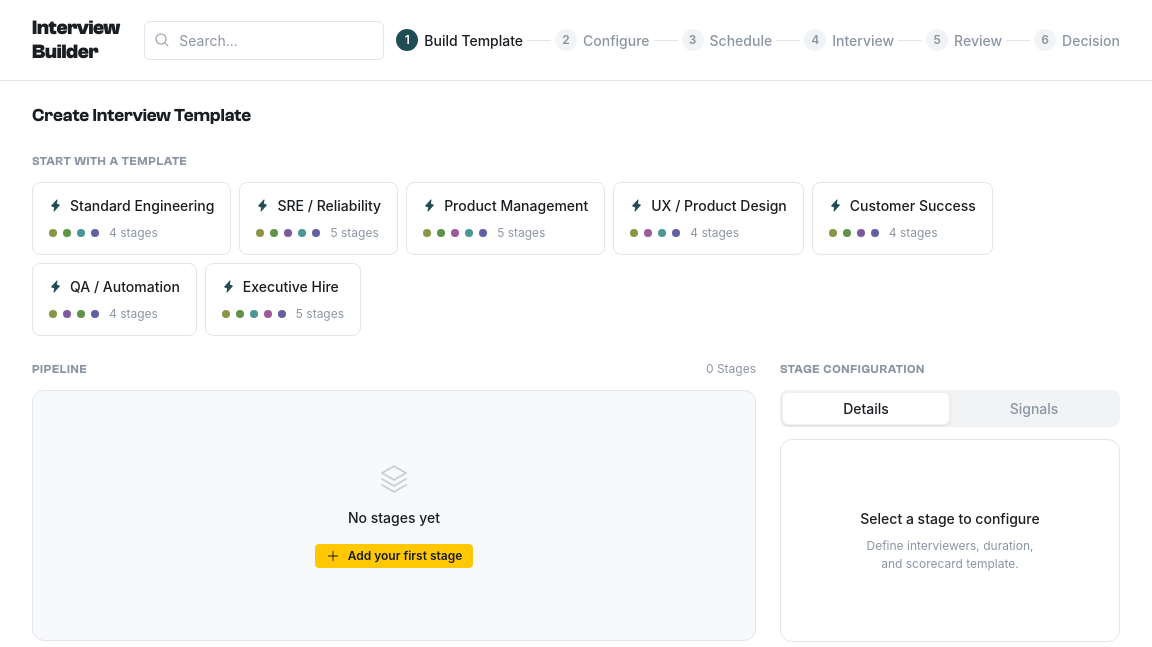
Test: Builder page › shows ConfigDrawer when a stage is clicked
The width and height of the screenshot is (1152, 647).
Click the text "Standard Engineering". click: click(142, 205)
box: [70,194,214,216]
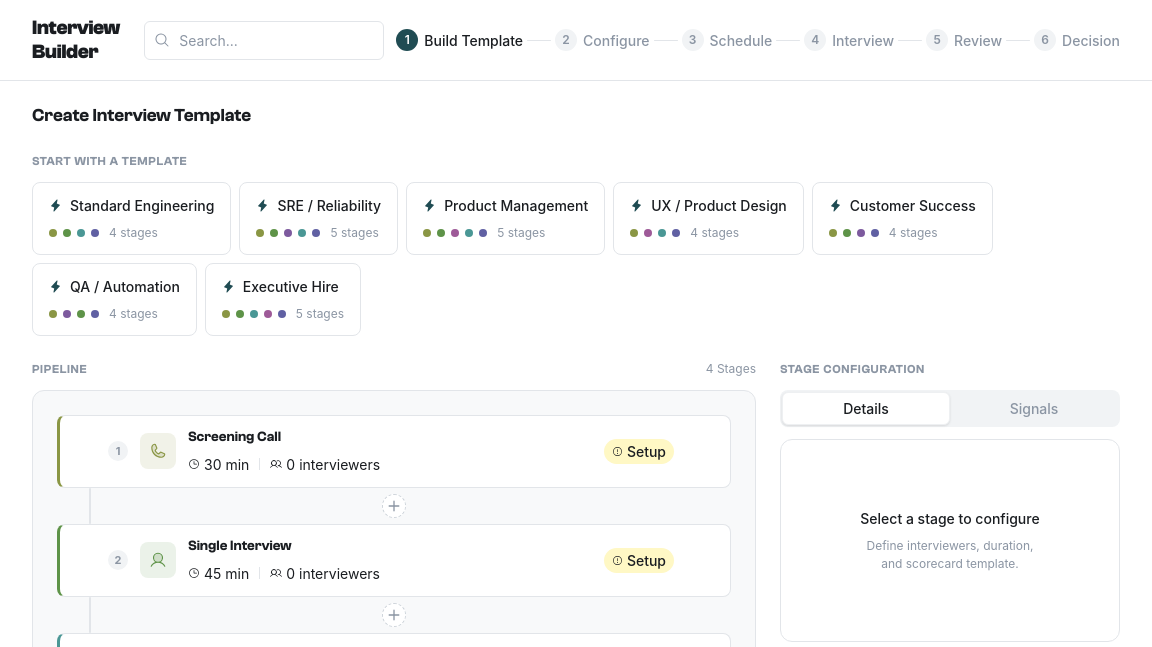
// Click the Screening Call stage card
Click the button with aria-label "Stage 1: Screening Call". click: click(235, 436)
box: [57,414,731,488]
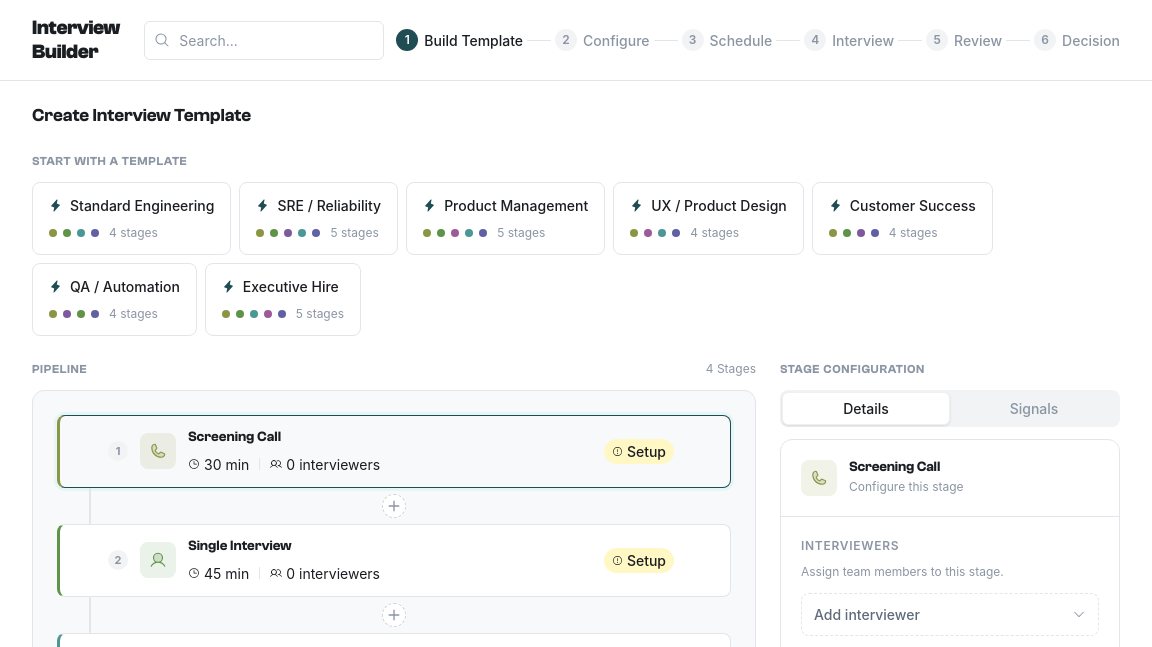
Check: the text "Configure this stage" is shown, box [849,478,964,496]
